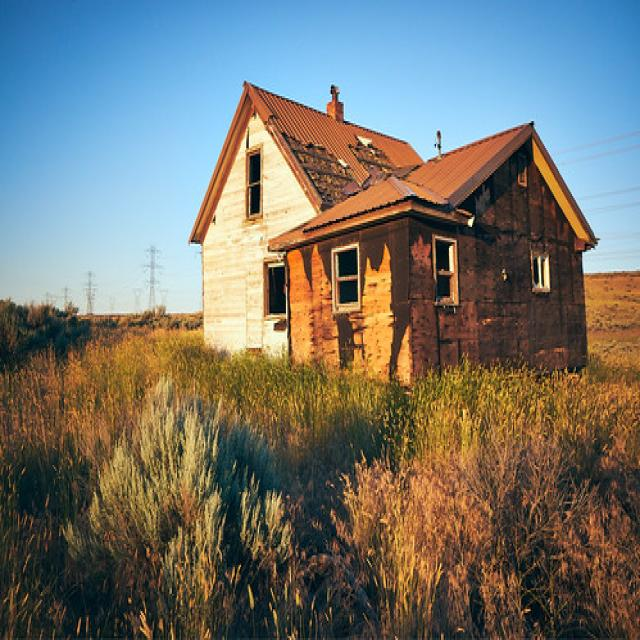building: (191, 69, 604, 402)
